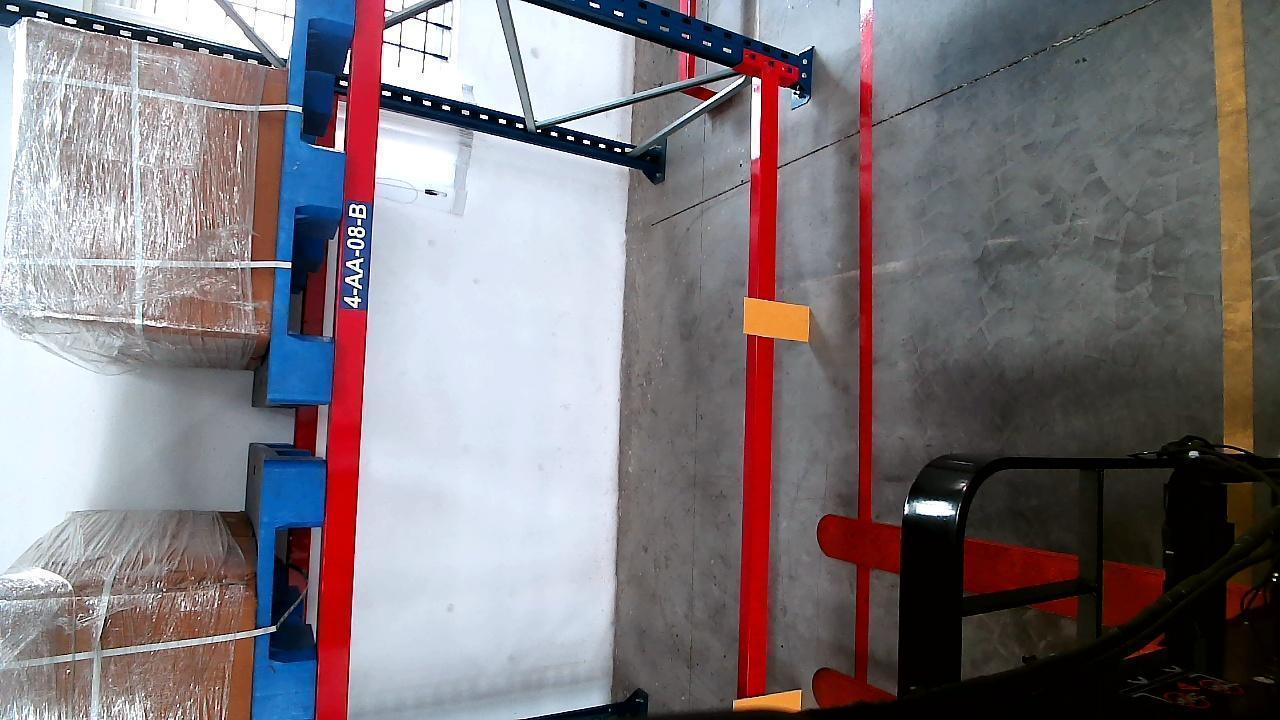yellow_line: (1215, 0, 1258, 457)
